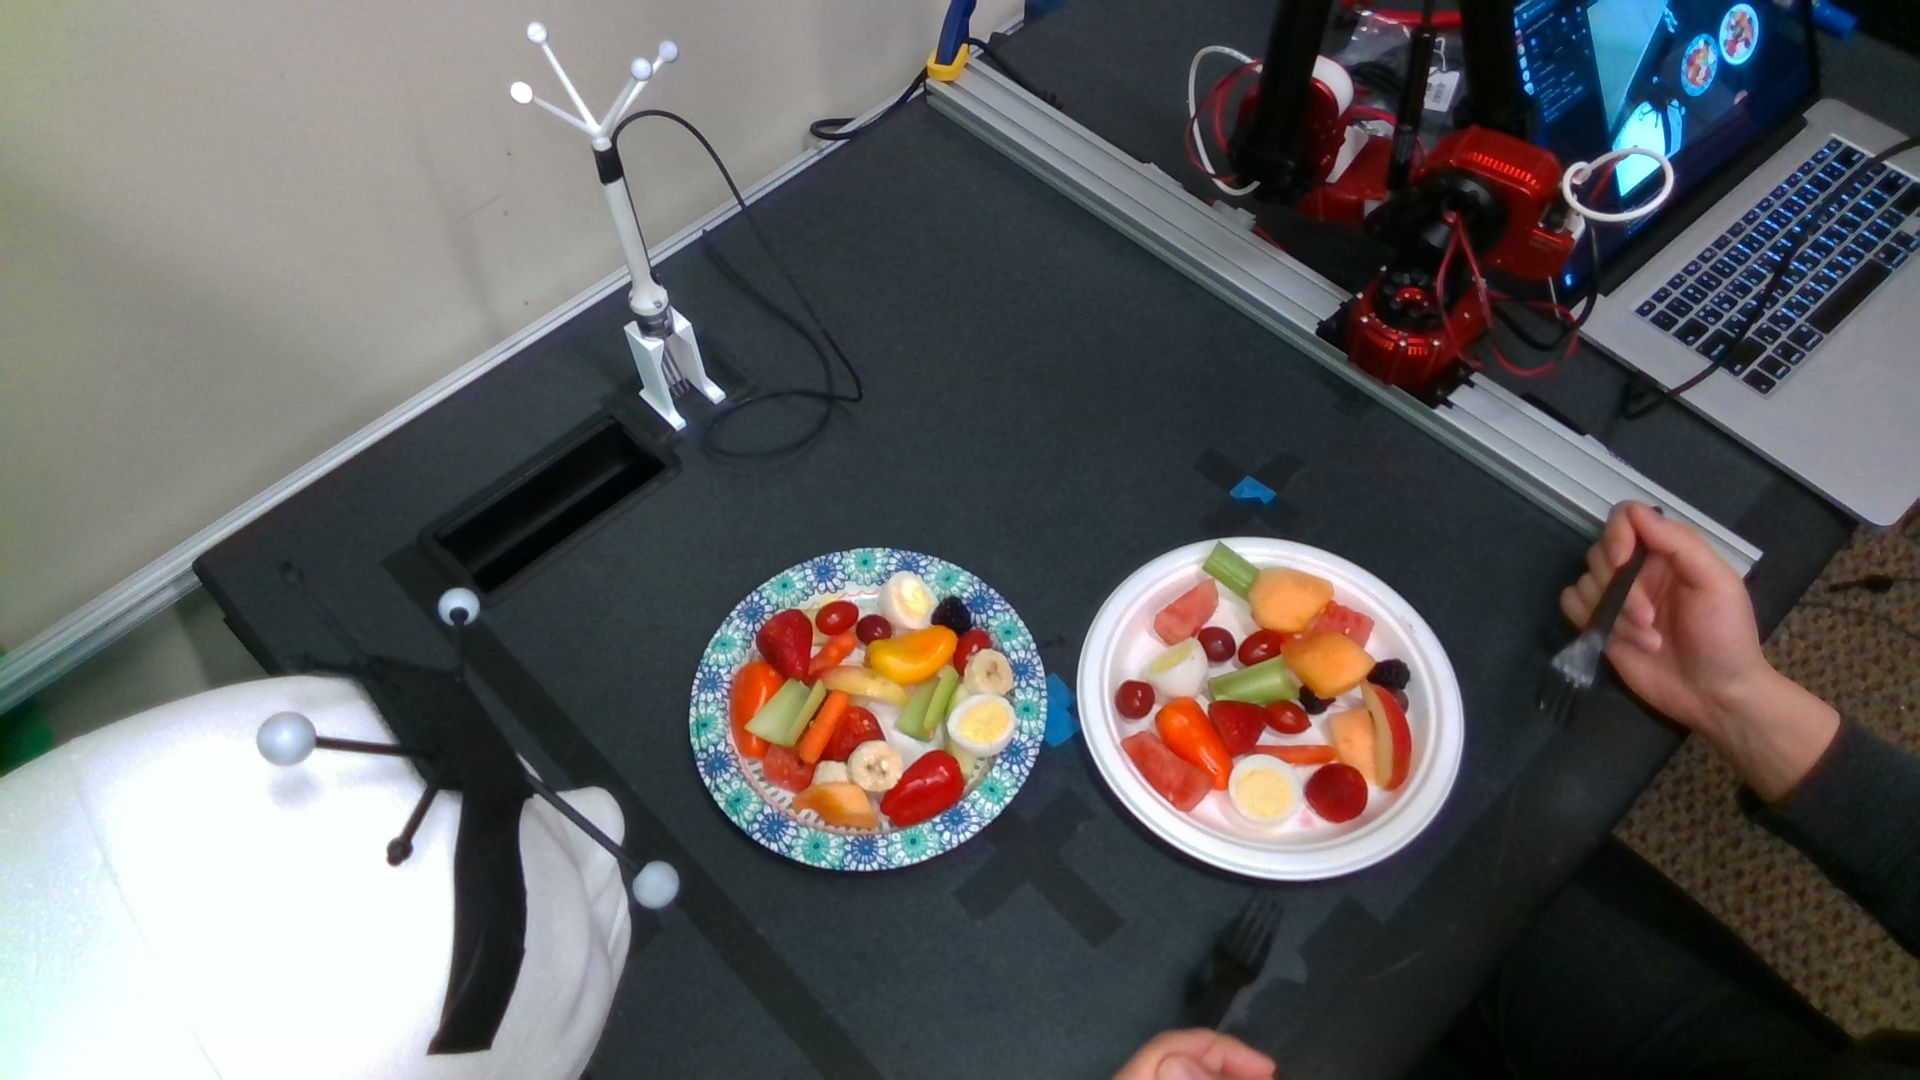apple: (1360, 680, 1412, 791), (820, 667, 913, 703)
banana: (851, 742, 902, 793), (967, 650, 1014, 696)
bell_pepper: (1156, 698, 1232, 789), (881, 754, 963, 824), (727, 661, 783, 758), (866, 628, 955, 680)
blackberry: (932, 595, 971, 634)
cantalope: (1251, 564, 1337, 633), (1292, 636, 1374, 698), (793, 778, 876, 828), (1325, 703, 1374, 775)
carrot: (808, 691, 849, 764), (1240, 745, 1337, 764), (808, 632, 856, 667)
celery: (745, 679, 822, 742), (903, 667, 957, 741), (1209, 543, 1255, 593)
cherry_tomato: (1240, 628, 1287, 665), (1265, 700, 1311, 735), (818, 603, 856, 633)
egg: (1229, 756, 1302, 822), (947, 694, 1017, 756), (1143, 637, 1215, 698), (880, 572, 938, 626)
grape: (1117, 680, 1153, 716), (1196, 630, 1236, 659), (861, 615, 891, 644)
melon: (1129, 731, 1207, 811), (1156, 578, 1220, 642), (1313, 601, 1373, 647), (764, 744, 816, 793)
plate: (1077, 533, 1473, 880), (687, 550, 1048, 880)
strawberry: (758, 611, 814, 680), (1309, 764, 1367, 825), (827, 709, 884, 764)
